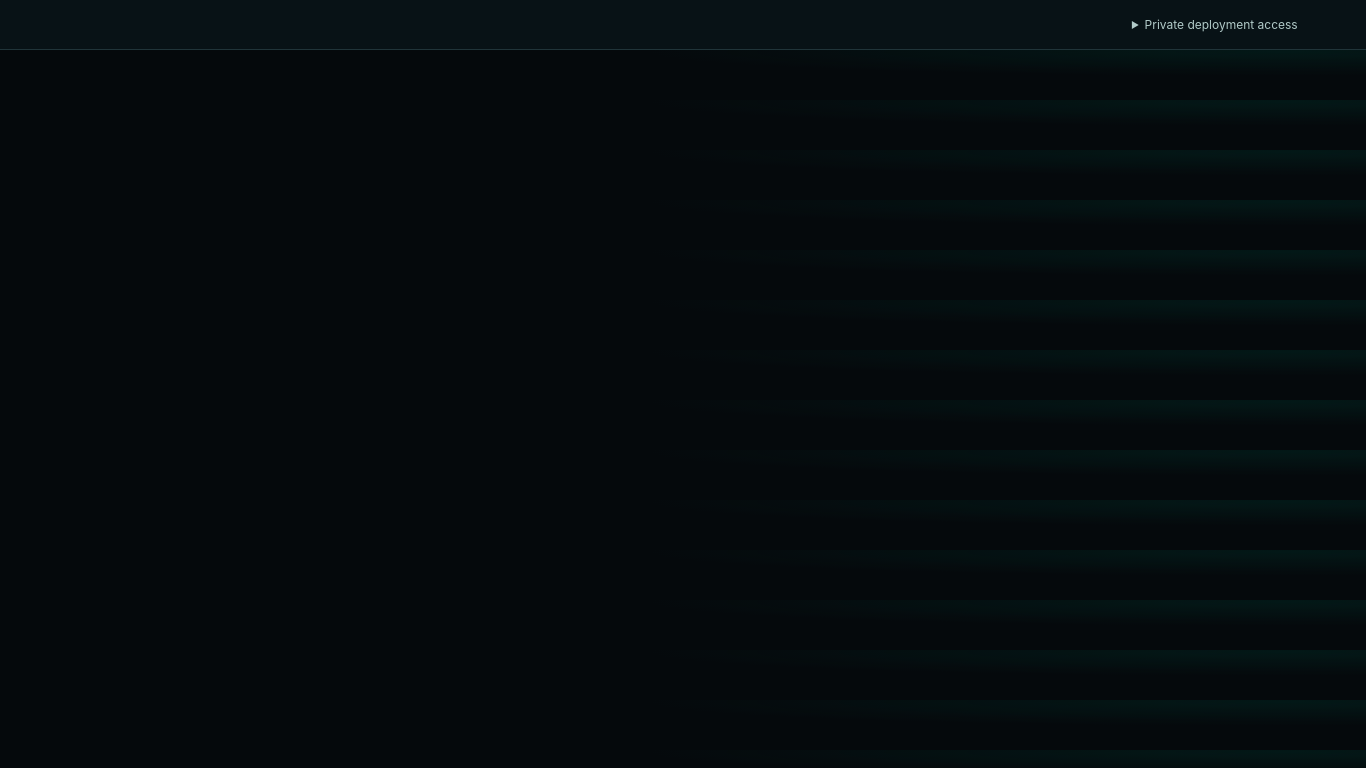
Test: DeploymentControls › stores private deployment access only for the session and can forget it
Click the heading "Private deployment access". click: (1221, 24)
box: [1145,17,1298,32]
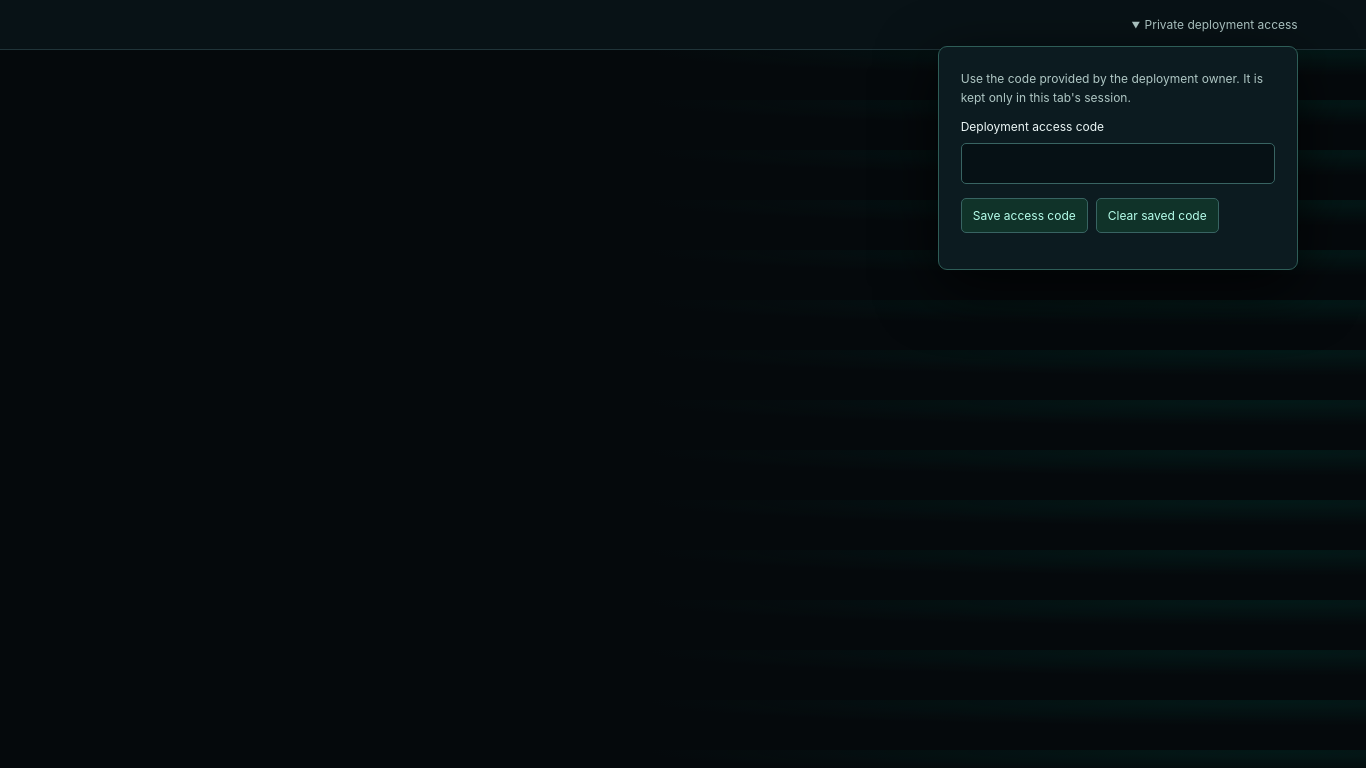
Type "private-code" into the password field labelled "Deployment access code". click: (1118, 164)
box: [961,143,1275,184]
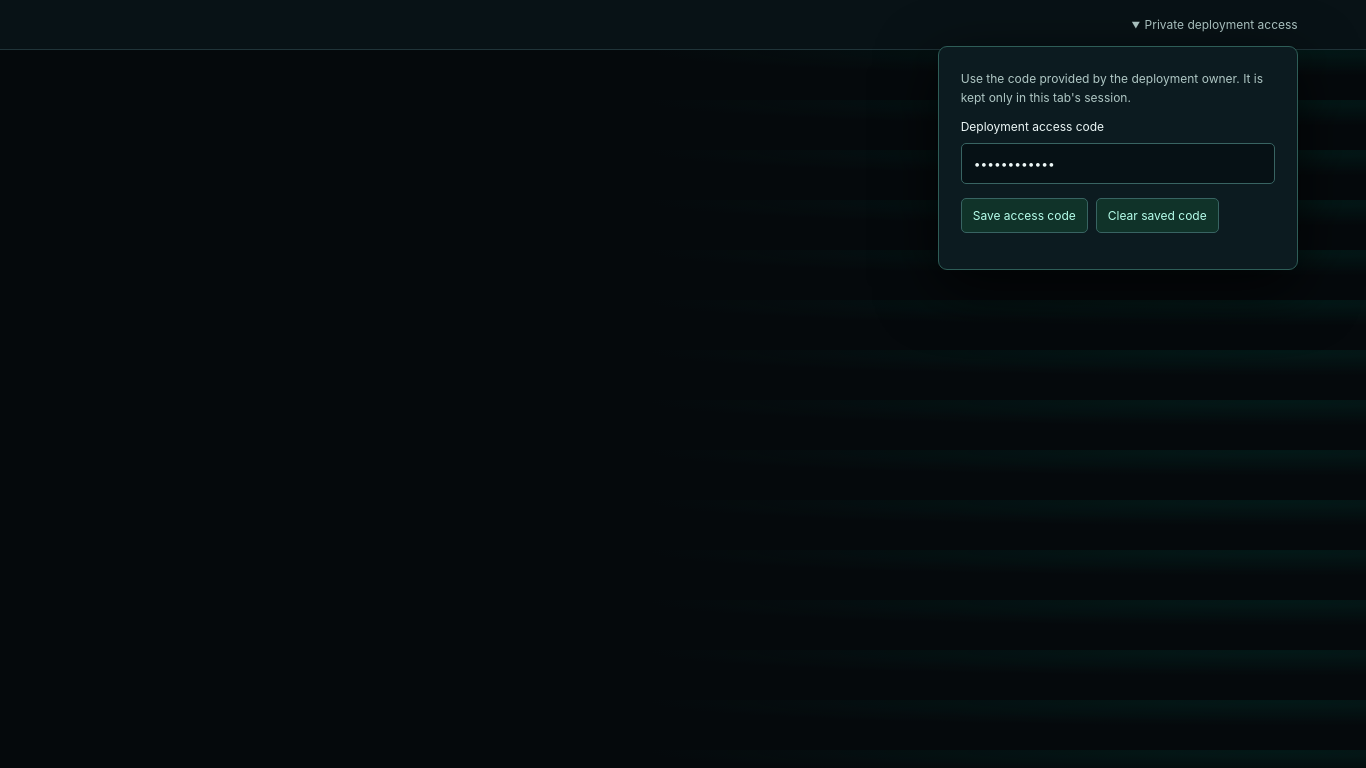
Click the button "Save access code". click: (1024, 216)
box: [961,198,1088,233]
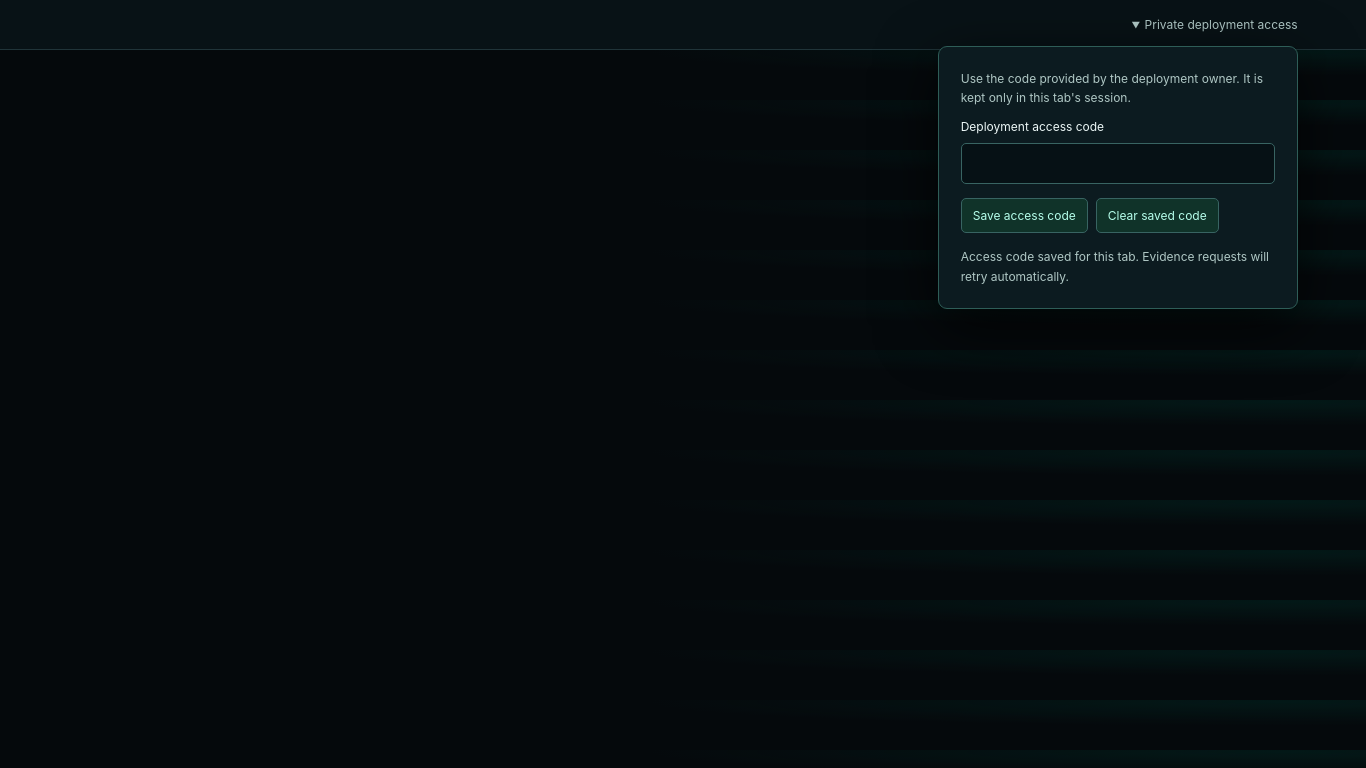
Expected: the message shows "saved for this tab", [961,249,1269,284]
Expected: the password field labelled "Deployment access code" is empty, [961,143,1275,184]
Click the button "Clear saved code". click: (1157, 216)
box: [1096,198,1219,233]
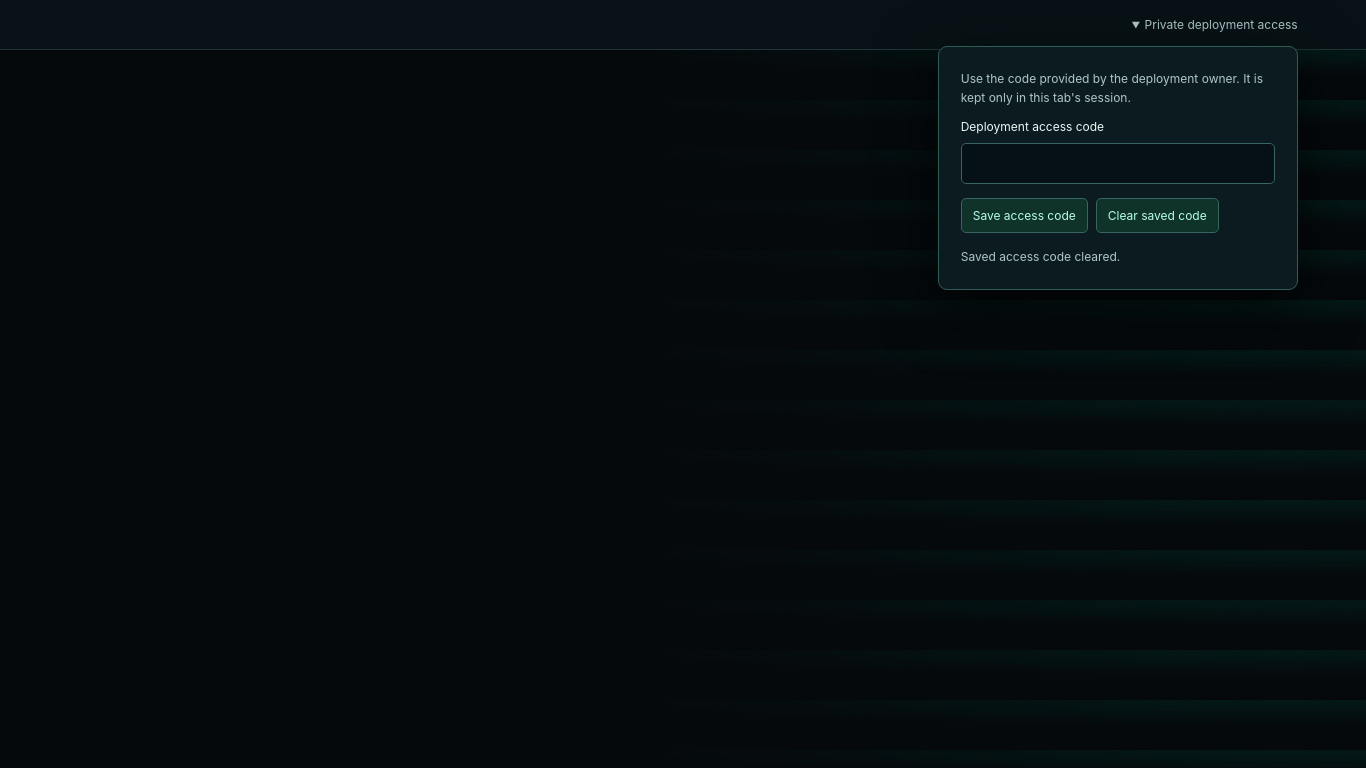
Expected: the message shows "cleared", [961,249,1120,264]
